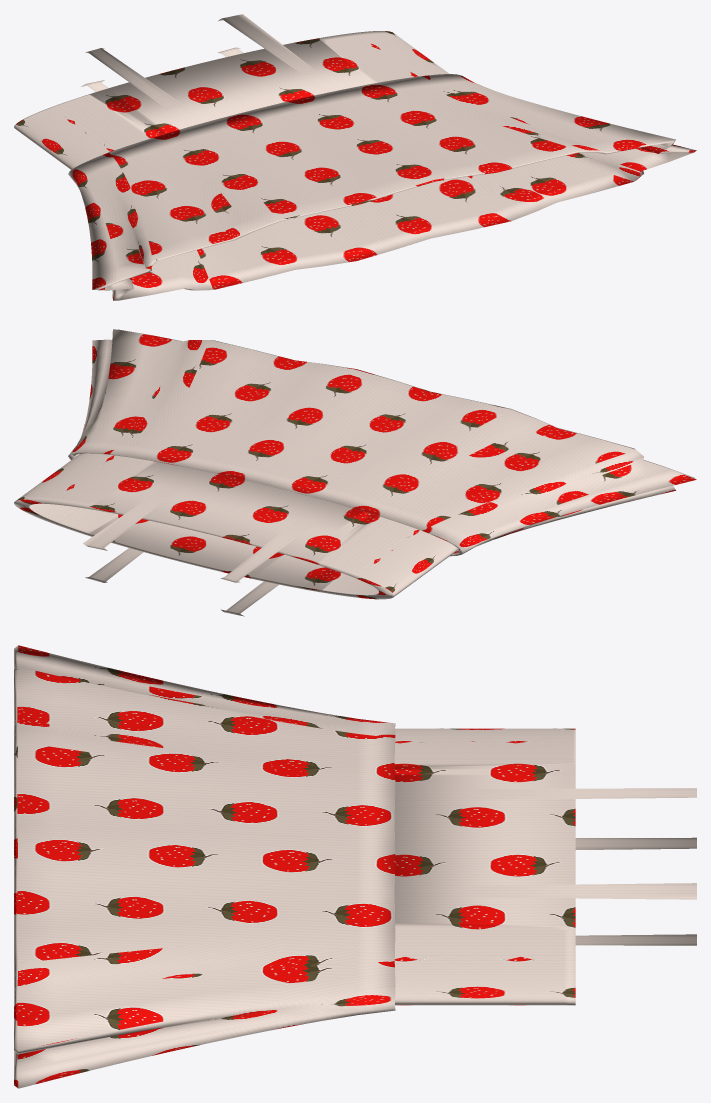
Rendered from sundress2.fbx.
3 renders of one model, top to bottom at view 1: azimuth 30°, elevation 25°; view 2: azimuth 150°, elevation 25°; view 3: azimuth 270°, elevation 25°, orthographic. The views are drawn at different scales.
Parts seen in each view (by area): view 1: sundress2; view 2: sundress2; view 3: sundress2.
Boxes of the visible parts, left/top/right/bottom form: sundress2: left=14, top=14, right=696, bottom=300; sundress2: left=14, top=329, right=696, bottom=616; sundress2: left=14, top=645, right=696, bottom=1088.
Size of the model in its own units: 1.35 by 0.1309 by 0.9.
Materials: 1 (1 with a texture image).
